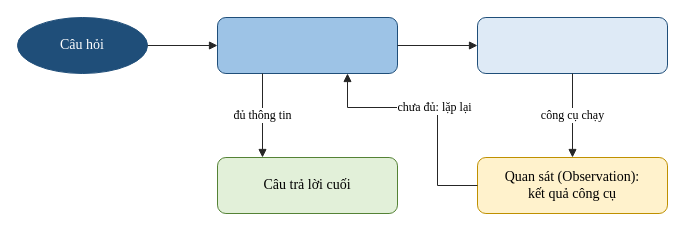
Image size: 685x231. Some labels were removed from this diagram. Each missing label, with the centre of its shape:
Hành động (Action): gọi công cụ: point 572,45
Suy nghĩ (Thought): point 307,45
